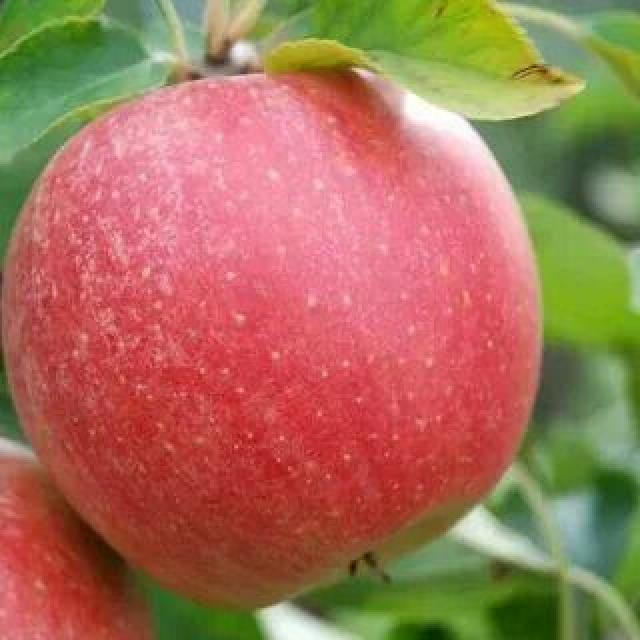Fresh Apple: (10, 75, 535, 600)
